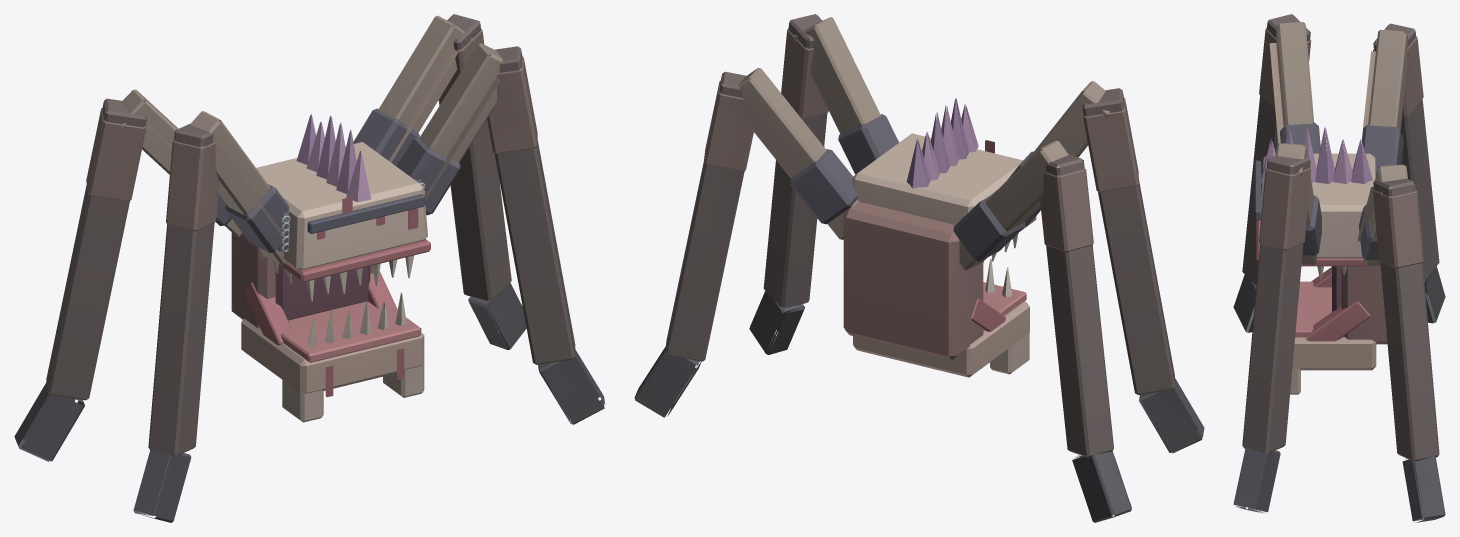
File: PrimitiveSummonerPunk.glb
3 renders of one model, left to right at view 1: azimuth 30°, elevation 25°; view 2: azimuth 150°, elevation 25°; view 3: azimuth 270°, elevation 25°, orthographic. The views are drawn at different scales.
Visible parts, largest first — view 1: Body, ArmR, ArmL, LegR, LegL, Head; view 2: Body, LegR, LegL, ArmR, ArmL, Head; view 3: ArmL, LegL, Body, LegR, ArmR, Head.
Boxes of the visible parts, x1=… form: Body: x1=231, y1=114, x2=430, y2=327; ArmR: x1=133, y1=111, x2=288, y2=522; ArmL: x1=396, y1=43, x2=605, y2=424; LegR: x1=14, y1=89, x2=242, y2=461; LegL: x1=353, y1=14, x2=526, y2=349; Head: x1=241, y1=271, x2=424, y2=422; Body: x1=843, y1=98, x2=1036, y2=359; LegR: x1=953, y1=140, x2=1131, y2=522; LegL: x1=634, y1=68, x2=858, y2=417; ArmR: x1=1007, y1=81, x2=1204, y2=453; ArmL: x1=749, y1=14, x2=898, y2=354; Head: x1=853, y1=258, x2=1029, y2=377; ArmL: x1=1233, y1=143, x2=1321, y2=513; LegL: x1=1357, y1=164, x2=1445, y2=522; Body: x1=1254, y1=126, x2=1387, y2=344; LegR: x1=1361, y1=23, x2=1445, y2=323; ArmR: x1=1233, y1=14, x2=1320, y2=332; Head: x1=1290, y1=267, x2=1376, y2=394.
Size of the model in its own units: 10.01 by 6.99 by 3.98.
